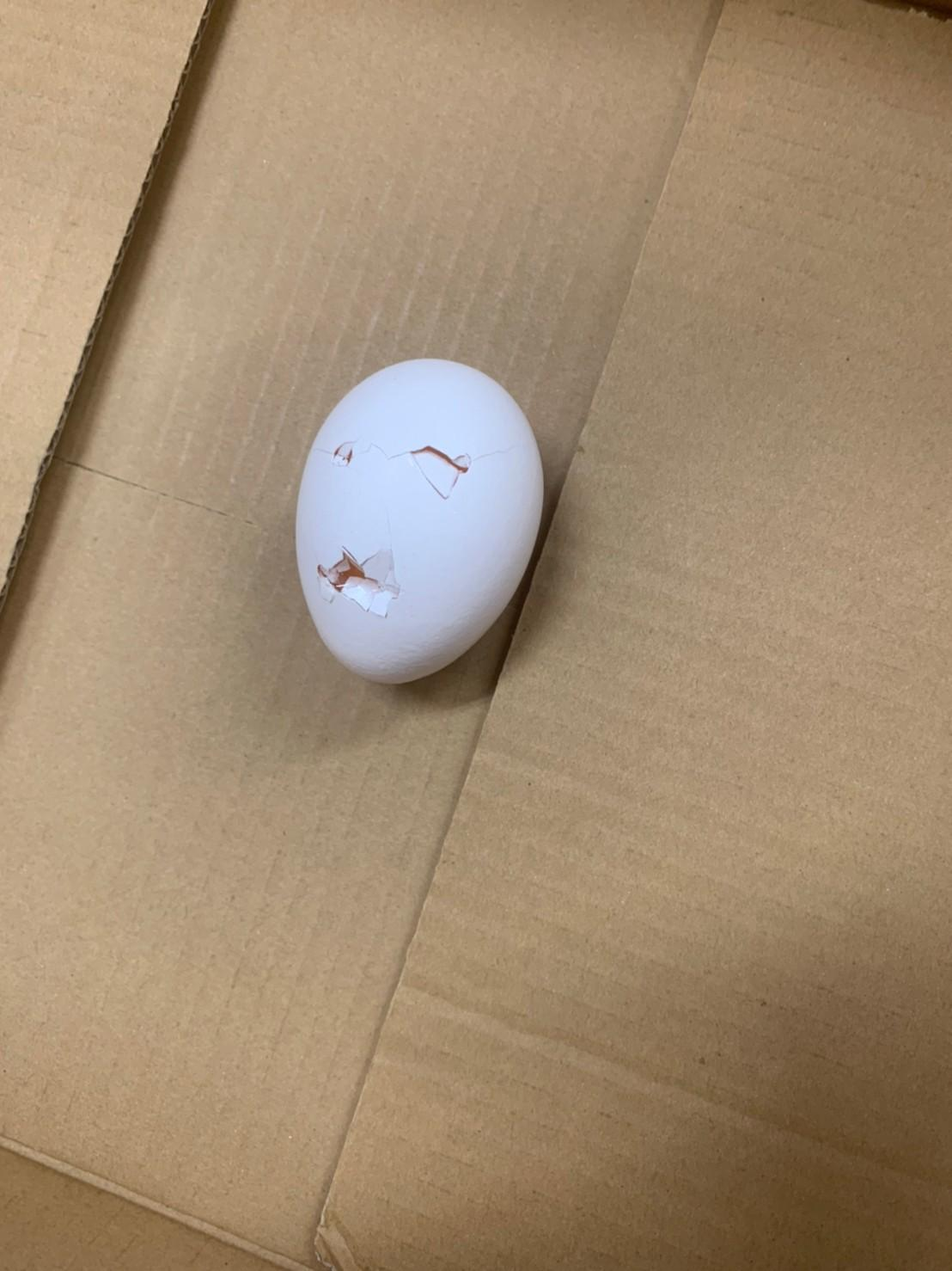egg: (283, 350, 546, 696)
